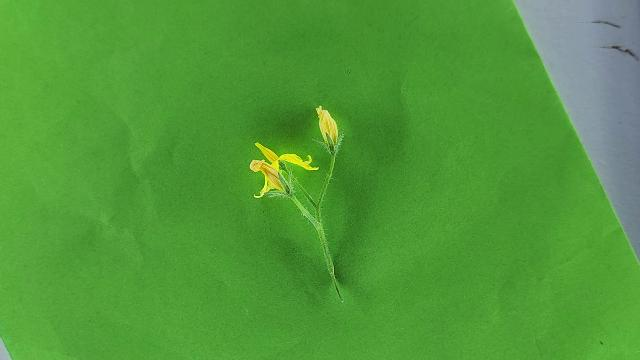Anthesis: (248, 140, 317, 198), (315, 104, 338, 147)
